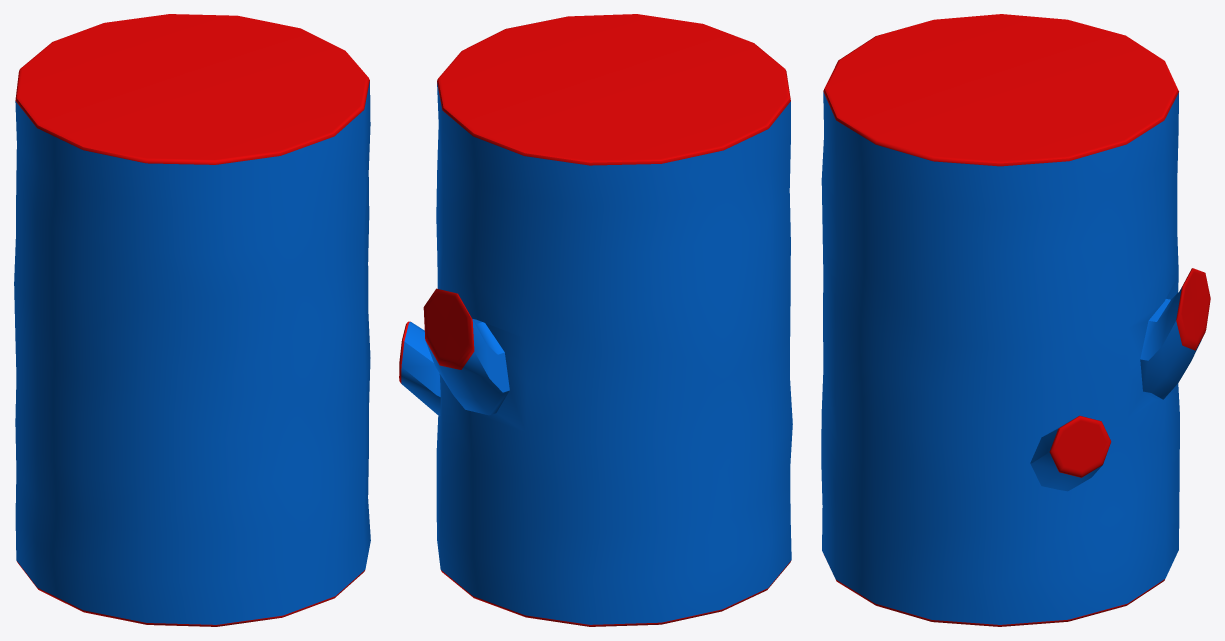
The model's file is log_02.fbx.
The picture shows the model from 3 angles, left to right: view 1: azimuth 30°, elevation 25°; view 2: azimuth 150°, elevation 25°; view 3: azimuth 270°, elevation 25°; orthographic projection.
Parts seen in each view (by area): view 1: generated_log_02; view 2: generated_log_02, generated_log_01; view 3: generated_log_02, generated_log_01.
Boxes of the visible parts, left/top/right/bottom form: generated_log_02: left=14, top=14, right=370, bottom=626; generated_log_02: left=423, top=14, right=792, bottom=626; generated_log_01: left=399, top=321, right=440, bottom=415; generated_log_02: left=821, top=14, right=1210, bottom=626; generated_log_01: left=1030, top=415, right=1111, bottom=491.
Bounding box in the file's own units: 2.53 × 3.35 × 2.54.
